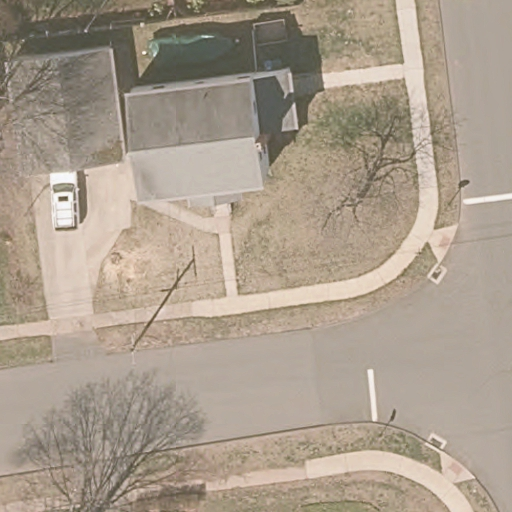DT: (129, 312, 156, 364)
